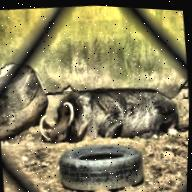boar: (37, 70, 180, 153)
